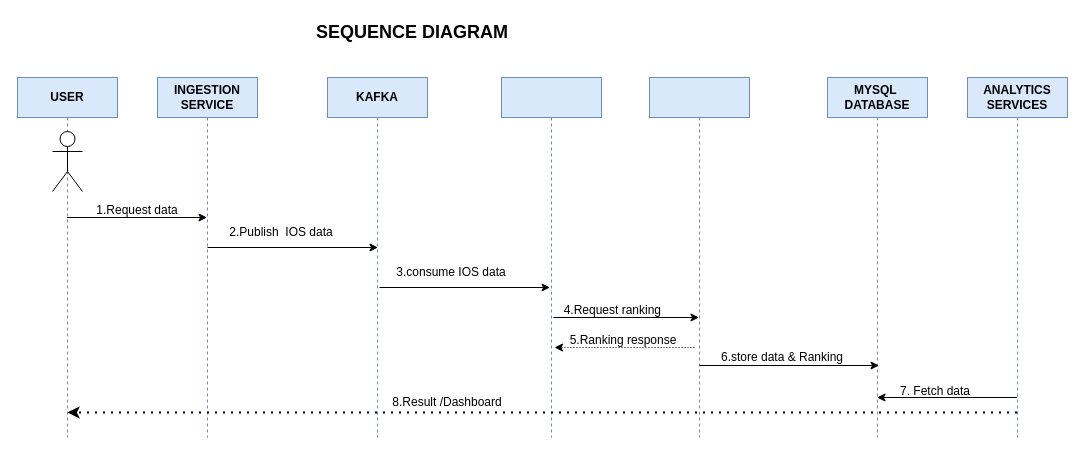
Image size: 1085x455. Some labels were removed from this diagram. The shapes that lost their labels are listed below. From the top down, each one's box as (x1, y1, x2, y2) in pixels, then its label:
(52, 130, 82, 192): Actor
(500, 76, 602, 438): PROCESSING SERVICE
(648, 76, 750, 438): RANKING SERVICE
